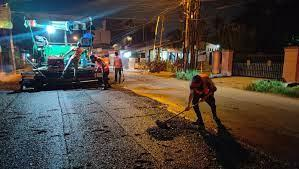Pothole: (127, 65, 191, 110), (133, 115, 211, 144)
